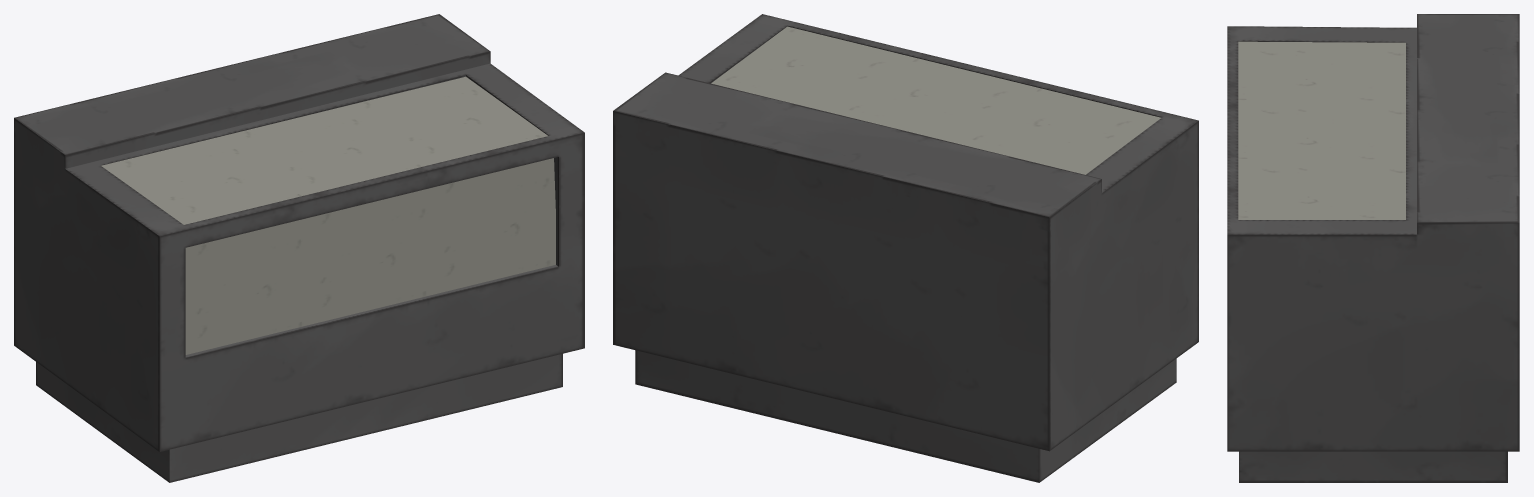
Rendered from Shelves3.fbx.
3 views of the same model, side by side, from view 1: azimuth 30°, elevation 25°; view 2: azimuth 150°, elevation 25°; view 3: azimuth 270°, elevation 25° (orthographic). The views are drawn at different scales.
Visible parts, largest first — view 1: Shelves3; view 2: Shelves3; view 3: Shelves3.
Boxes of the visible parts, left/top/right/bottom form: Shelves3: left=14, top=14, right=584, bottom=482; Shelves3: left=613, top=14, right=1198, bottom=482; Shelves3: left=1227, top=14, right=1519, bottom=482.
Bounding box in the file's own units: 140 × 83.83 × 82.77.
